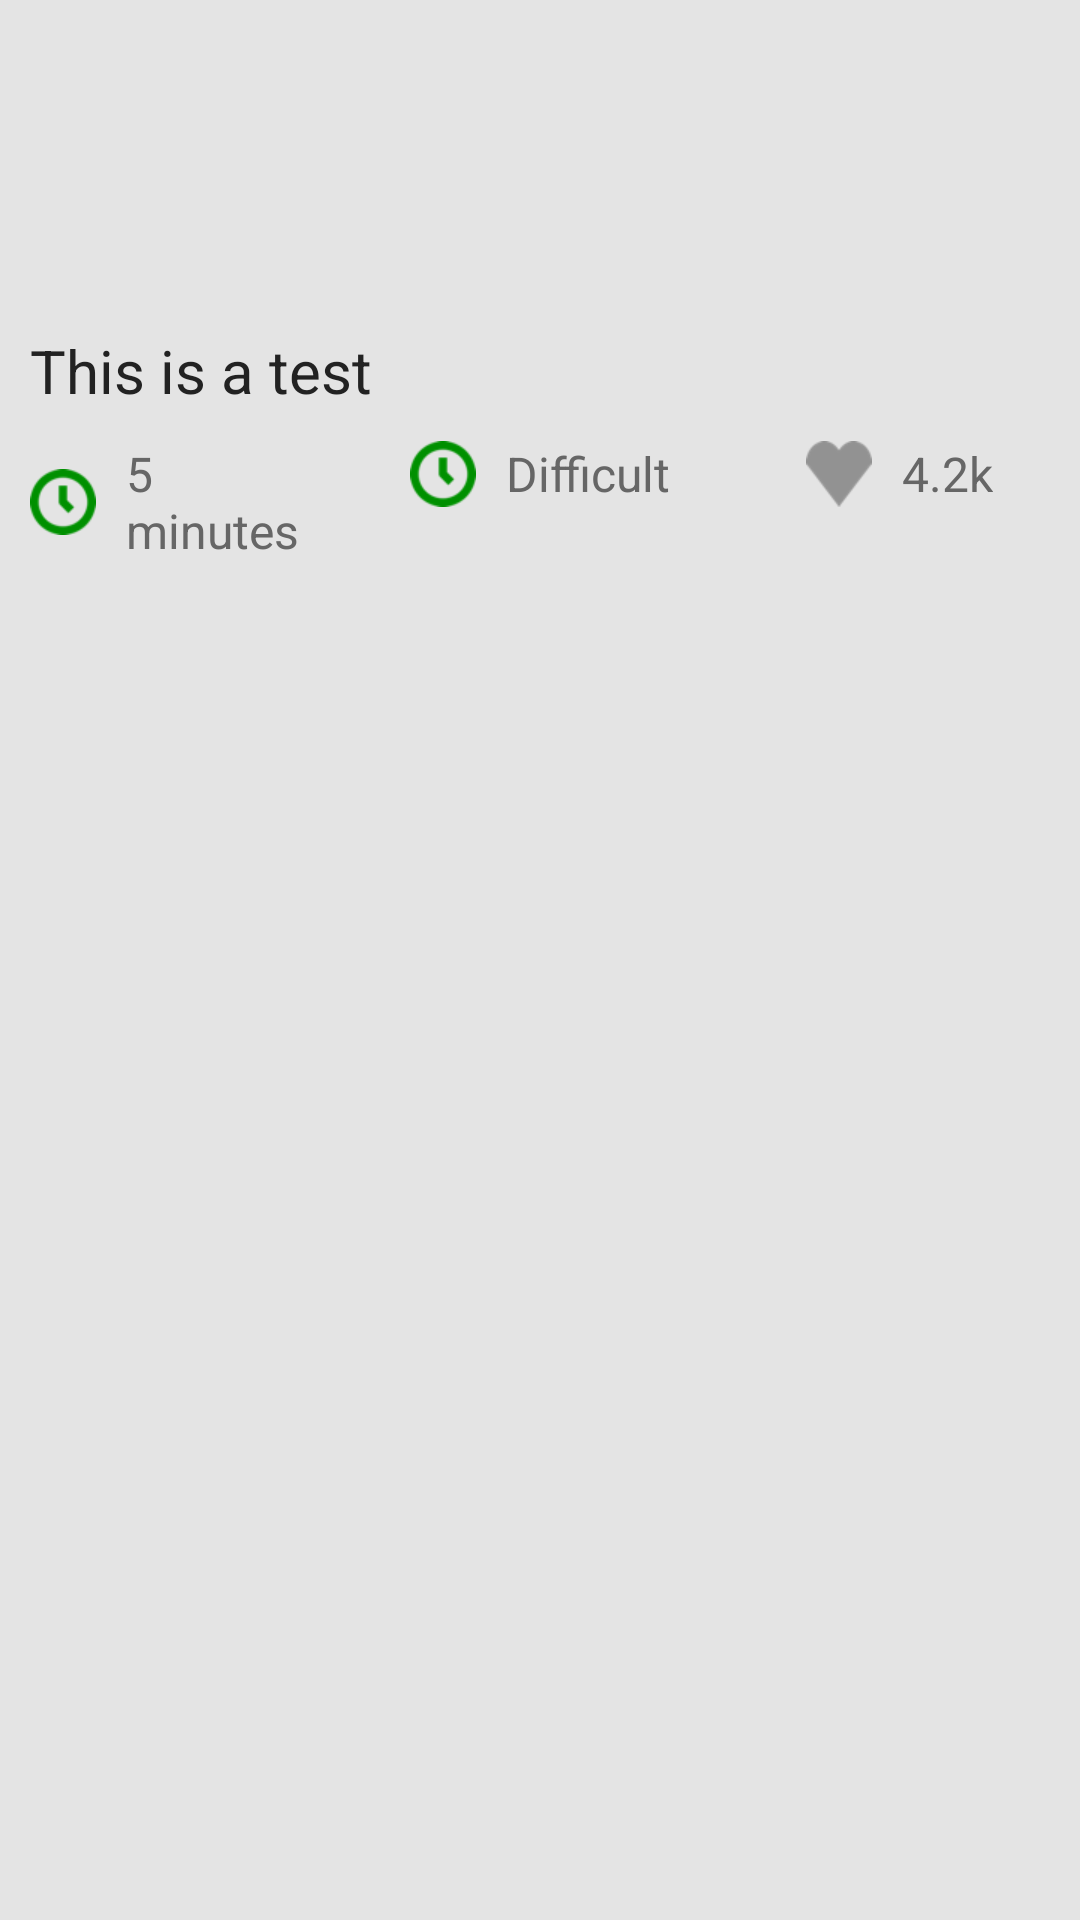

Icons on this 1080 x 1920 Android screen, each with the point to tap as [x,y]:
clock: [443,474], [63,502]
heart: [839,474]
